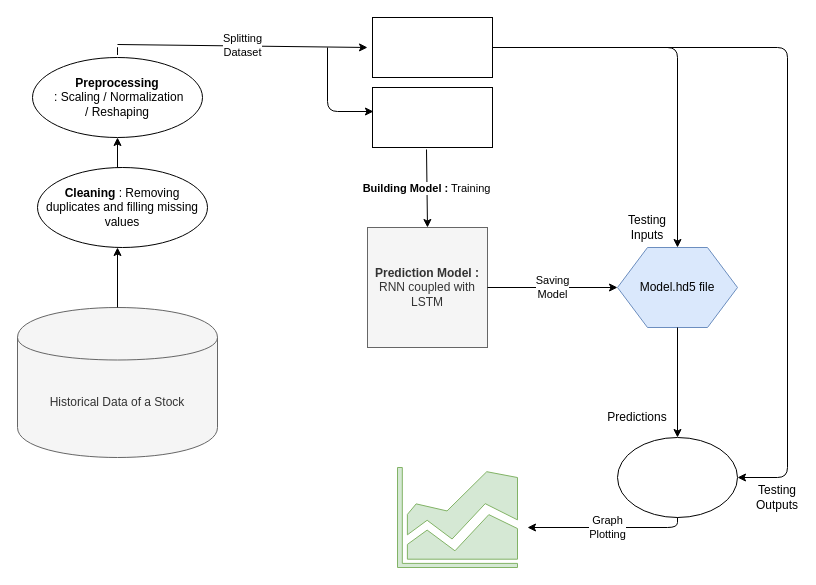
Image size: 816x585. Some labels were removed from this diagram. The box of each missing label's shape, as (x1, y1, x2, y2) in pixels:
Data Visualization Module: (616, 436, 738, 518)
Testing Dataset: (372, 16, 492, 78)
Training Dataset: (372, 86, 492, 148)
